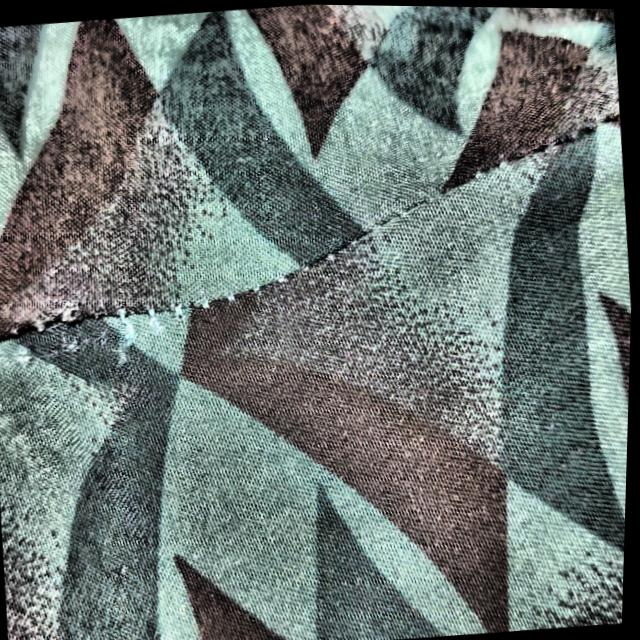Stitch: (0, 260, 268, 406)
